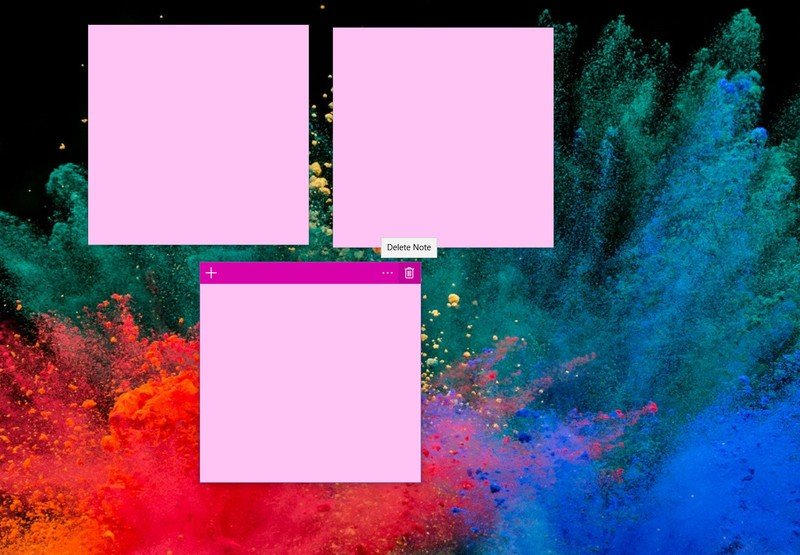Note: (83, 23, 311, 245), (200, 262, 422, 485), (332, 27, 553, 246)
